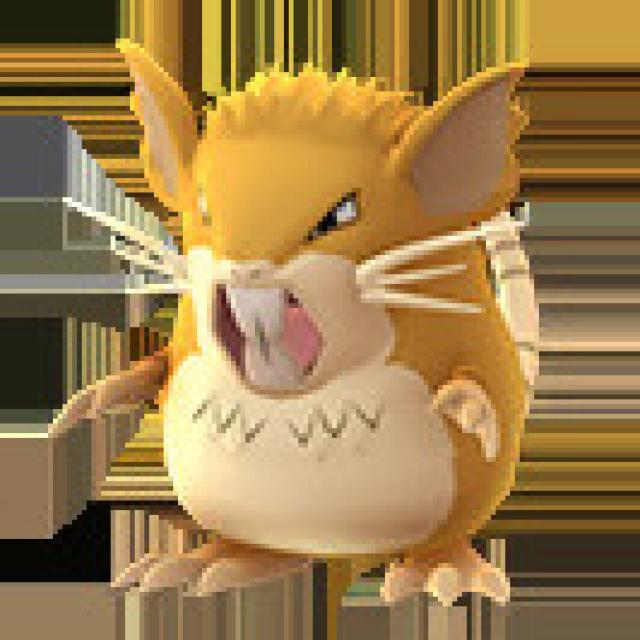Raticate: (91, 40, 556, 617)
